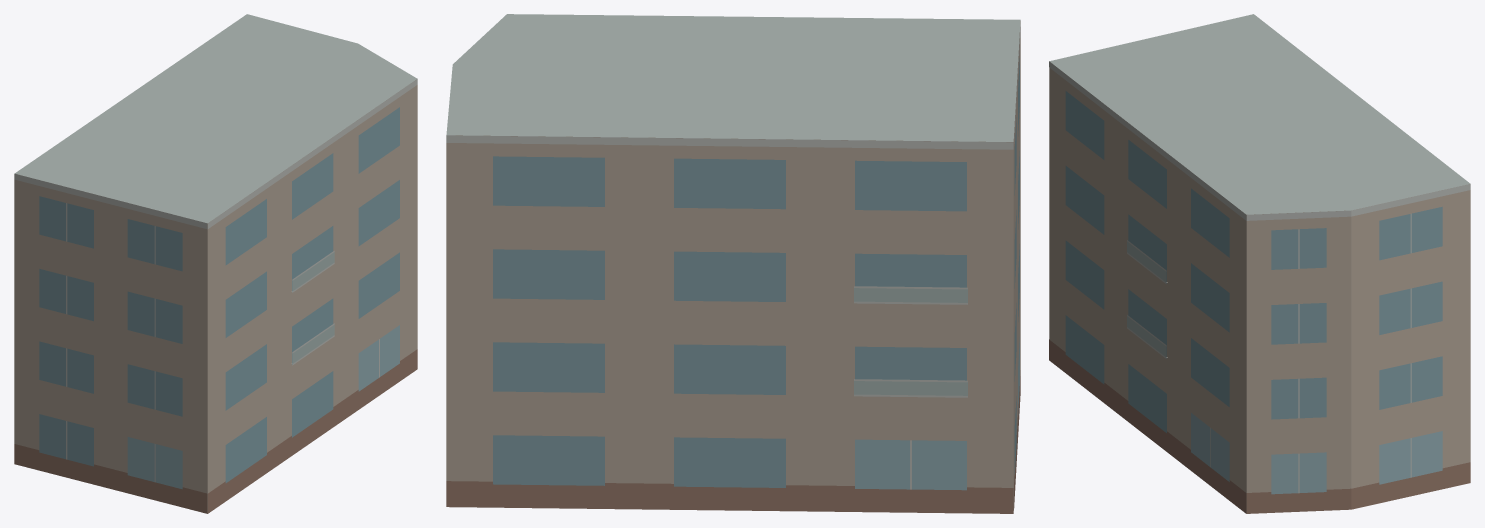
The model's file is survey-upis-32580928.glb.
3 views of the same model, side by side, from view 1: azimuth 30°, elevation 25°; view 2: azimuth 150°, elevation 25°; view 3: azimuth 270°, elevation 25° (orthographic). The views are drawn at different scales.
Visible parts, largest first — view 1: survey-upis-32580928.tmp; view 2: survey-upis-32580928.tmp; view 3: survey-upis-32580928.tmp.
Part boxes in pixels (x1=…): survey-upis-32580928.tmp: x1=14, y1=14, x2=417, y2=513; survey-upis-32580928.tmp: x1=446, y1=14, x2=1020, y2=513; survey-upis-32580928.tmp: x1=1049, y1=14, x2=1470, y2=513.
Size of the model in its own units: 17.05 by 11.84 by 15.13.
